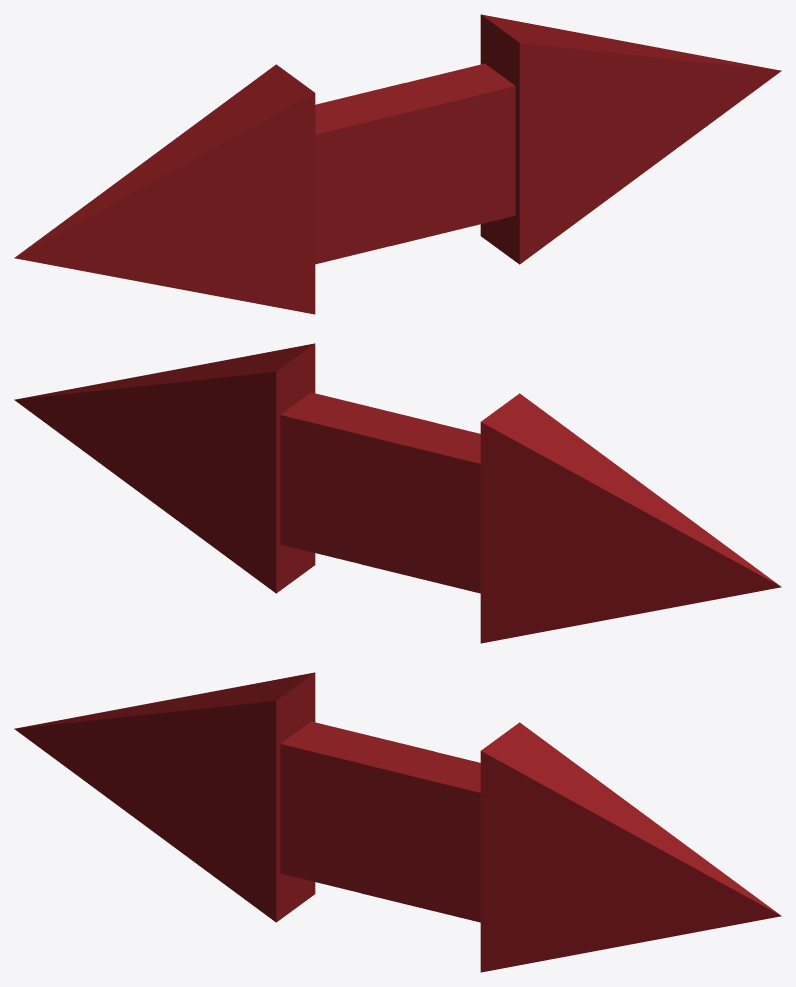
Rendered from Arrow2.fbx.
The picture shows the model from 3 angles, top to bottom: view 1: azimuth 30°, elevation 25°; view 2: azimuth 150°, elevation 25°; view 3: azimuth 330°, elevation 25°; orthographic projection.
Visible parts, largest first — view 1: node_id5, node_id44, node_id43, node_id8; view 2: node_id5, node_id44, node_id8, node_id43; view 3: node_id44, node_id5, node_id43, node_id8.
Boxes of the visible parts, x1,y1,x2,y2 form: node_id5: (14,64,315,314); node_id44: (480,14,781,264); node_id43: (383,63,515,245); node_id8: (315,83,427,264); node_id5: (480,393,781,643); node_id44: (14,343,315,593); node_id8: (361,415,480,593); node_id43: (280,392,434,563); node_id44: (480,722,781,972); node_id5: (14,672,315,922); node_id43: (361,752,480,922); node_id8: (280,721,434,892).
Bounding box in the file's own units: 0.9694 × 0.2675 × 0.0851.
Materials: 2 (2 with a texture image).
